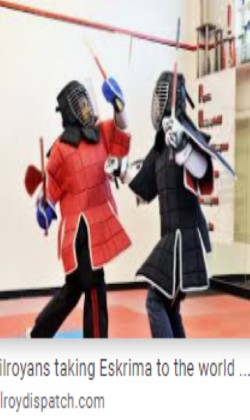baston_e: (90, 99, 112, 156), (170, 26, 181, 118), (36, 149, 52, 201)
baston_v: (33, 129, 48, 144), (111, 96, 124, 113), (109, 175, 122, 189), (88, 48, 100, 63), (166, 146, 176, 163), (174, 11, 186, 25), (40, 224, 51, 239), (86, 72, 95, 89)
